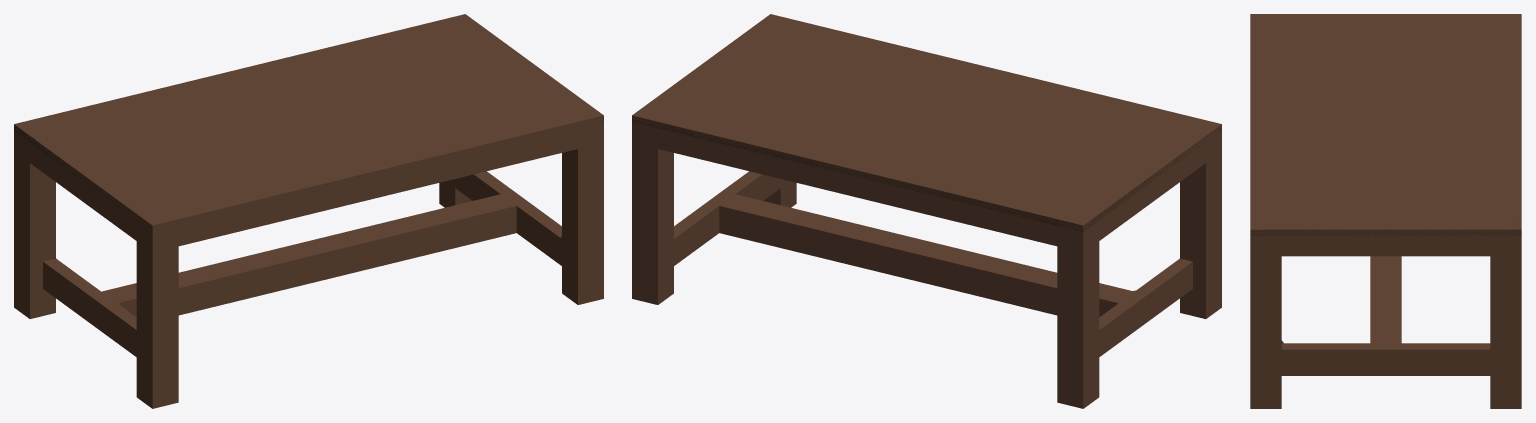
The model's file is table.glb.
The picture shows the model from 3 angles, left to right: view 1: azimuth 30°, elevation 25°; view 2: azimuth 150°, elevation 25°; view 3: azimuth 270°, elevation 25°; orthographic projection. The views are drawn at different scales.
Parts seen in each view (by area): view 1: table(Clone); view 2: table(Clone); view 3: table(Clone).
Part boxes in pixels (x1,y1,x2,y2): table(Clone): (14,14,603,408); table(Clone): (632,14,1221,408); table(Clone): (1250,14,1521,408).
Bounding box in the file's own units: 0.8415 × 0.3267 × 0.4474.
